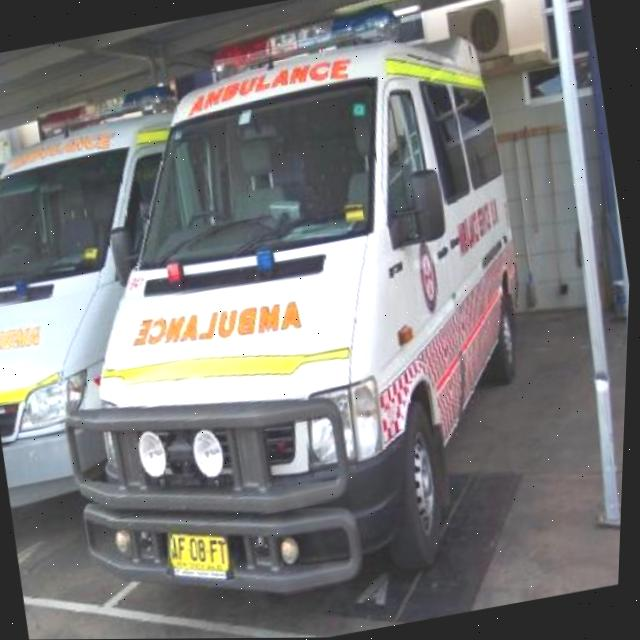emergency: (0, 11, 576, 632)
